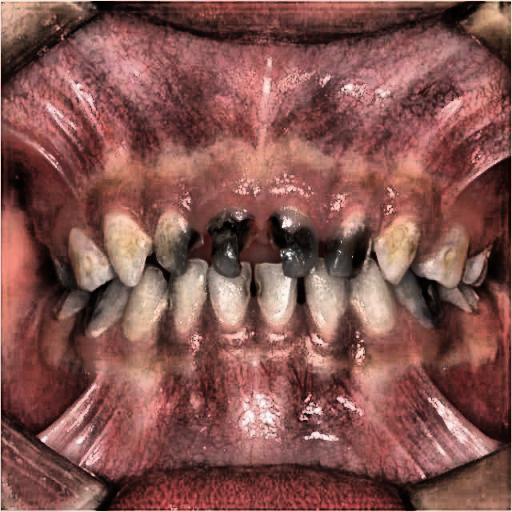Caries: (138, 183, 464, 326)
